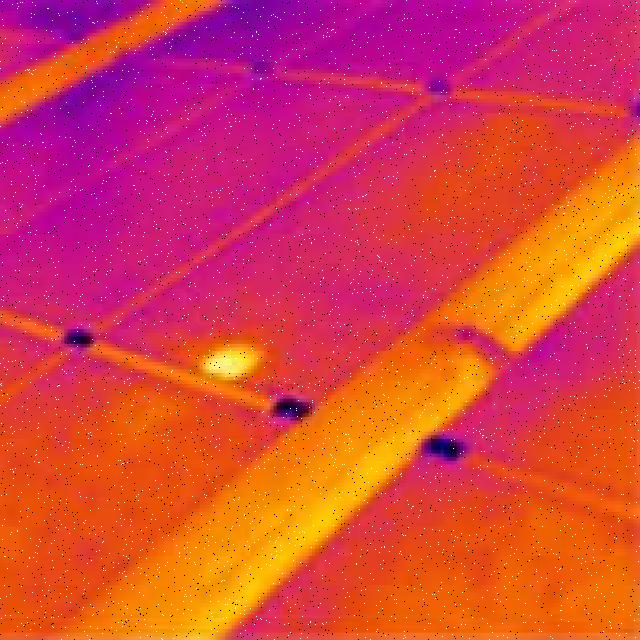Hotspot: (200, 336, 260, 384)
